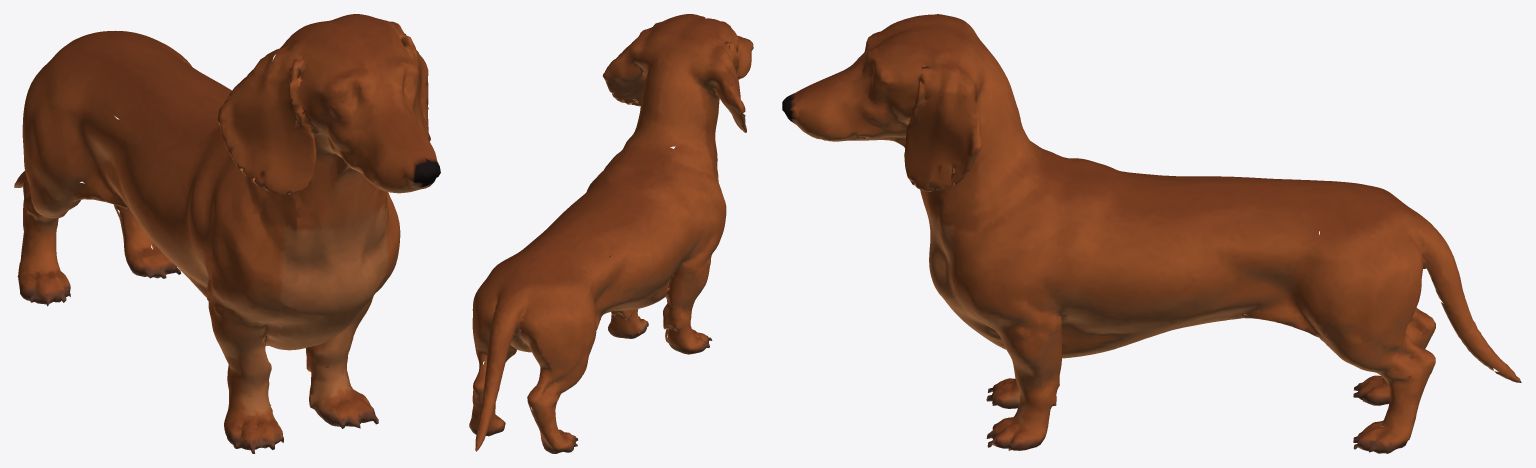
The model's file is kulik.glb.
3 renders of one model, left to right at view 1: azimuth 30°, elevation 25°; view 2: azimuth 150°, elevation 25°; view 3: azimuth 270°, elevation 25°, orthographic. The views are drawn at different scales.
Visible parts, largest first — view 1: kulik; view 2: kulik; view 3: kulik.
Part boxes in pixels (x1,y1,x2,y2): kulik: (14, 14, 440, 453); kulik: (469, 14, 753, 453); kulik: (782, 14, 1521, 453).
Bounding box in the file's own units: 0.5614 × 1.13 × 1.9.
